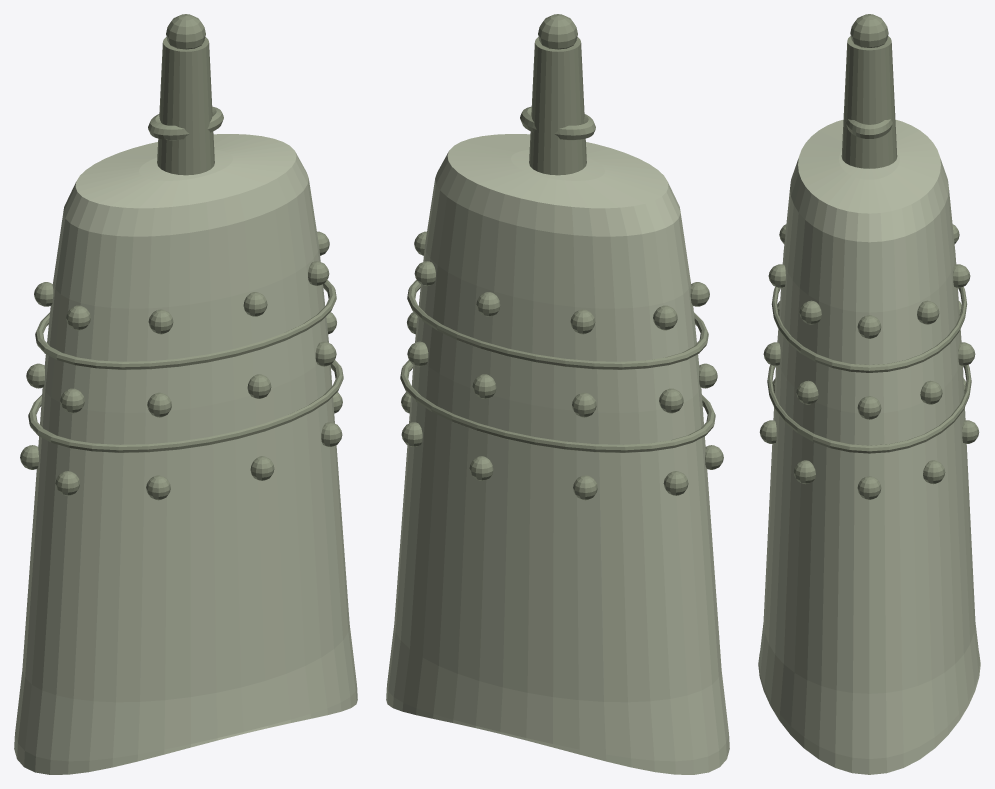
Rendered from bianzhong.glb.
The picture shows the model from 3 angles, left to right: view 1: azimuth 30°, elevation 25°; view 2: azimuth 150°, elevation 25°; view 3: azimuth 270°, elevation 25°; orthographic projection. The views are drawn at different scales.
Parts seen in each view (by area): view 1: bellbody, yong, zhuan_0, zhuan_1, heng, xuan; view 2: bellbody, yong, zhuan_0, zhuan_1, heng, xuan; view 3: bellbody, yong, zhuan_0, zhuan_1, heng, xuan, mei_0_0, mei_1_0, mei_2_0, mei_2_1, mei_2_8, mei_0_1 (+3 smaller).
Part boxes in pixels (x1,y1,x2,y2): bellbody: (14, 134, 357, 774); yong: (157, 37, 214, 175); zhuan_0: (28, 360, 343, 452); zhuan_1: (35, 280, 336, 369); heng: (166, 14, 205, 49); xuan: (148, 106, 223, 140); bellbody: (386, 134, 729, 774); yong: (529, 37, 586, 175); zhuan_0: (400, 360, 715, 452); zhuan_1: (407, 280, 708, 369); heng: (538, 14, 577, 49); xuan: (520, 106, 595, 140); bellbody: (758, 119, 980, 774); yong: (841, 36, 897, 168); zhuan_0: (767, 365, 971, 453); zhuan_1: (771, 287, 967, 372); heng: (850, 14, 888, 47); xuan: (845, 119, 893, 138); mei_0_0: (857, 476, 881, 499); mei_1_0: (857, 396, 881, 419); mei_2_0: (857, 315, 881, 338); mei_2_1: (917, 300, 939, 324); mei_2_8: (799, 300, 821, 324); mei_0_1: (923, 460, 945, 484).
Size of the model in its own units: 0.84 by 1.77 by 0.5208.
